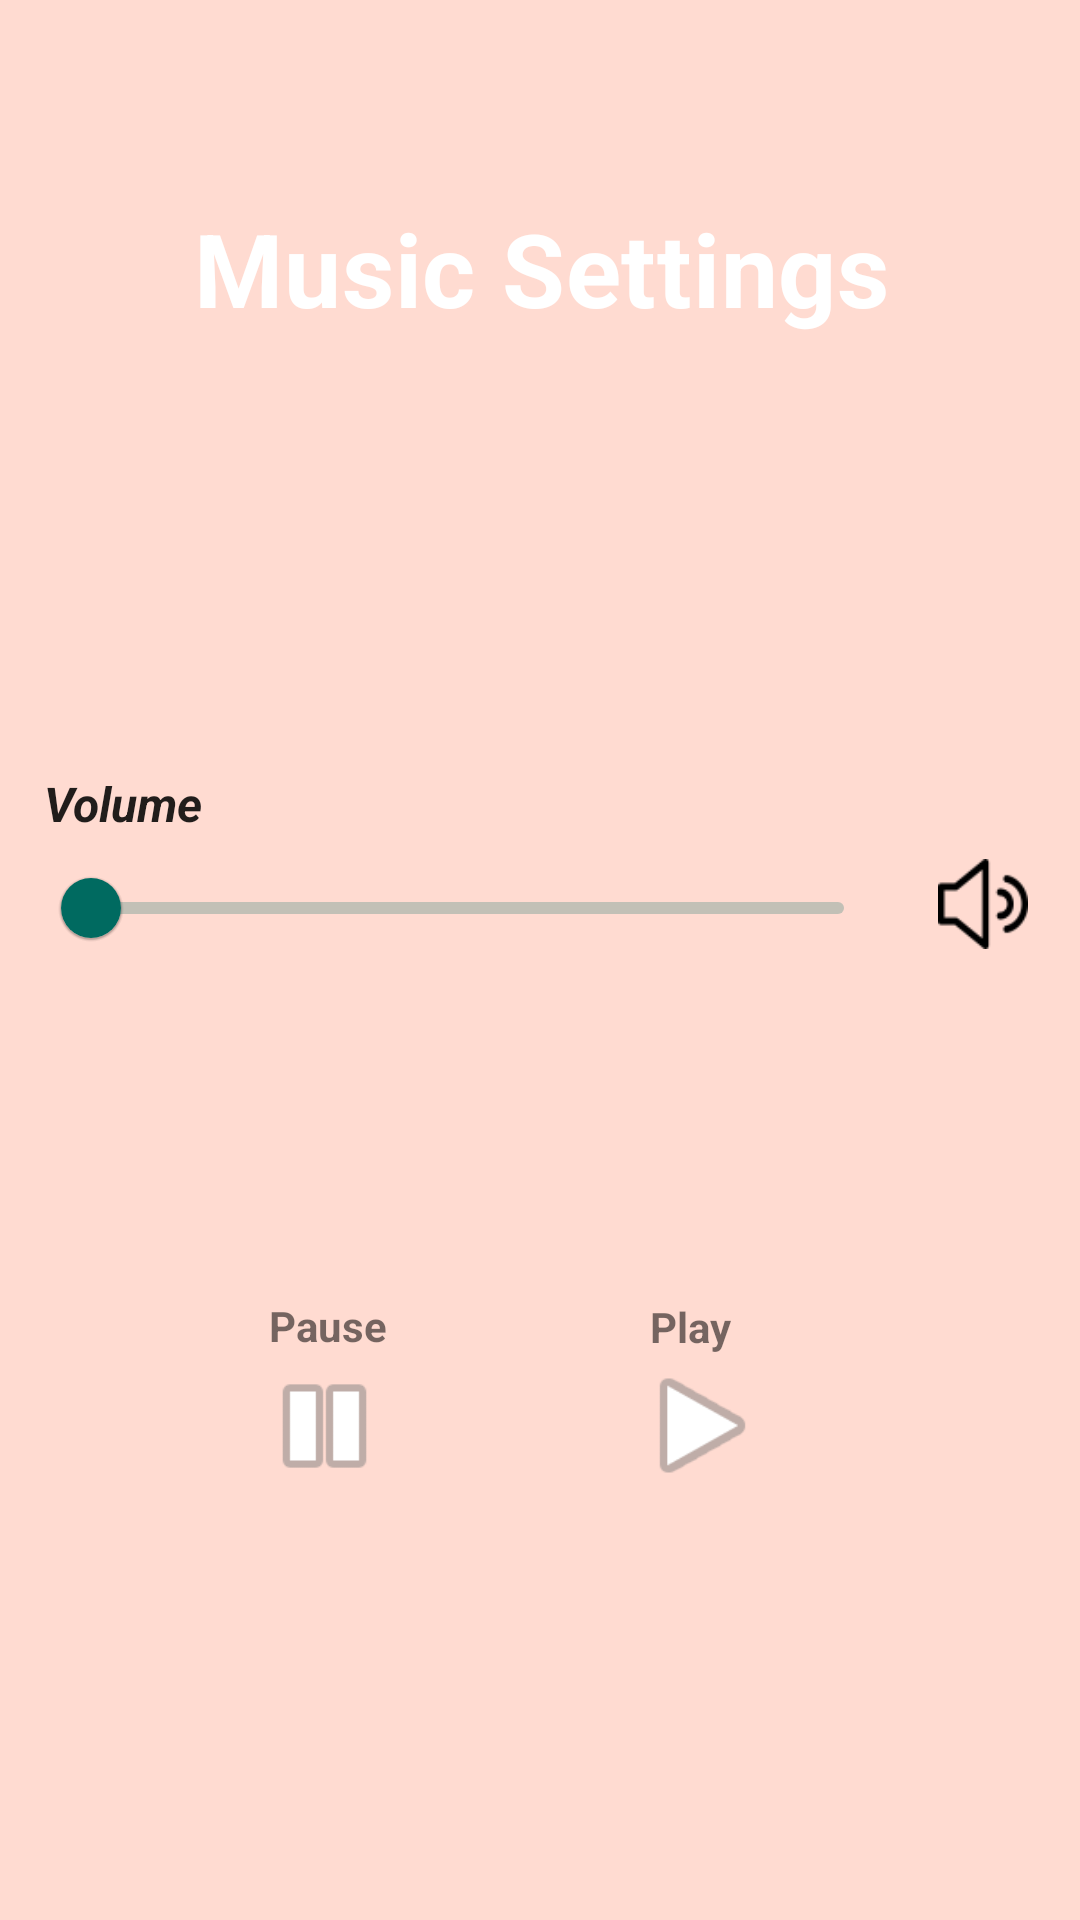

Icon click points for this 1080px×1920px phone screenshot, format (x,y):
volume: (983,904)
